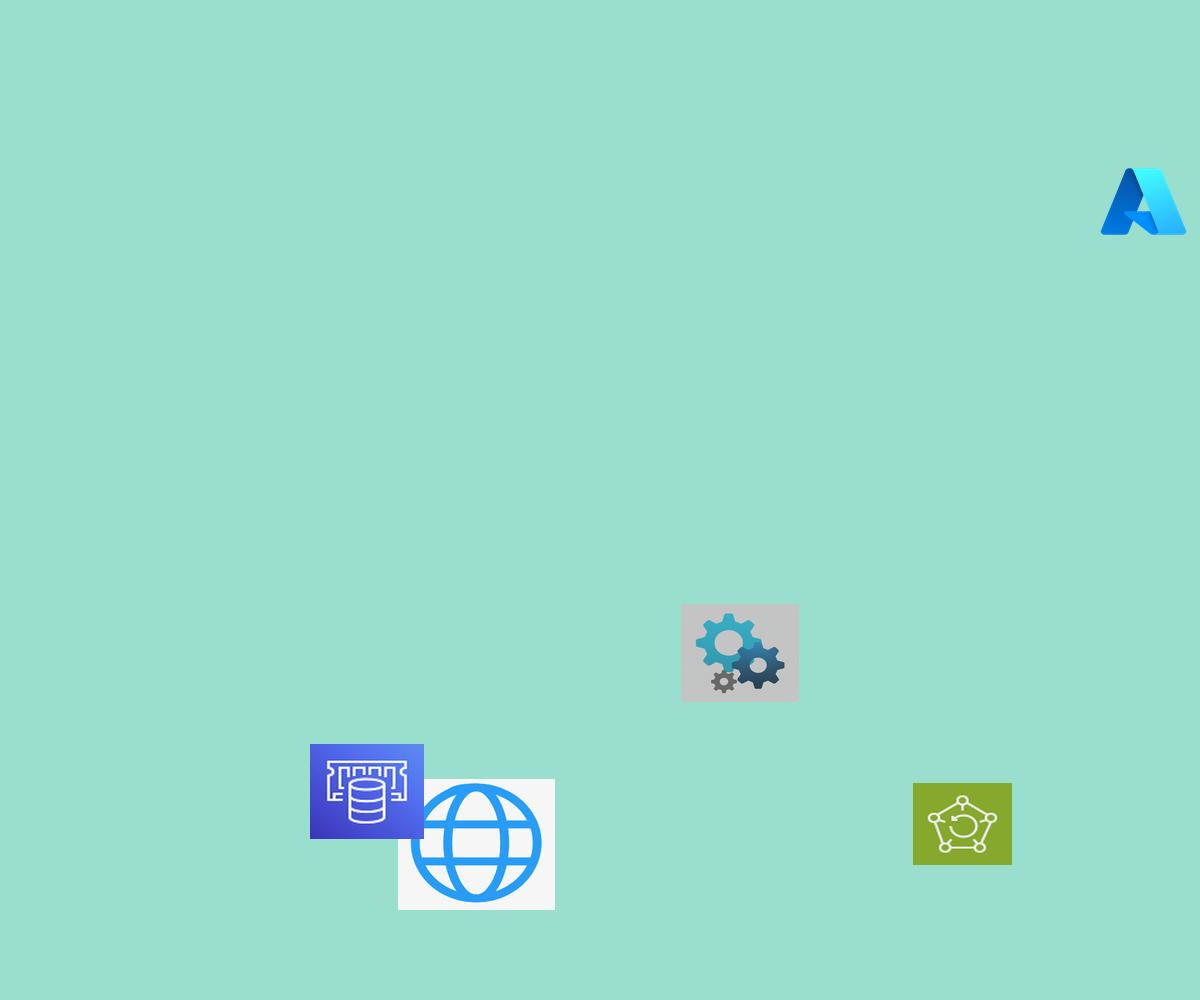AWS-Backup: (913, 783, 1012, 865)
AWS-ElastiCache: (310, 744, 424, 839)
Azure_api: (681, 604, 799, 702)
Azure_http: (398, 779, 555, 910)
Azure_services: (1097, 163, 1190, 240)
